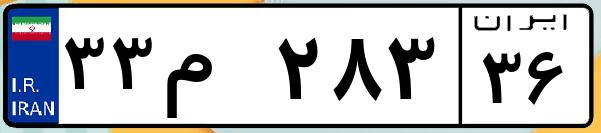2: (270, 28, 330, 110)
3: (385, 28, 445, 110), (57, 26, 110, 100), (475, 38, 525, 113), (110, 28, 158, 98)
6: (525, 38, 570, 115)
8: (330, 28, 385, 110)
م: (158, 20, 270, 120)
